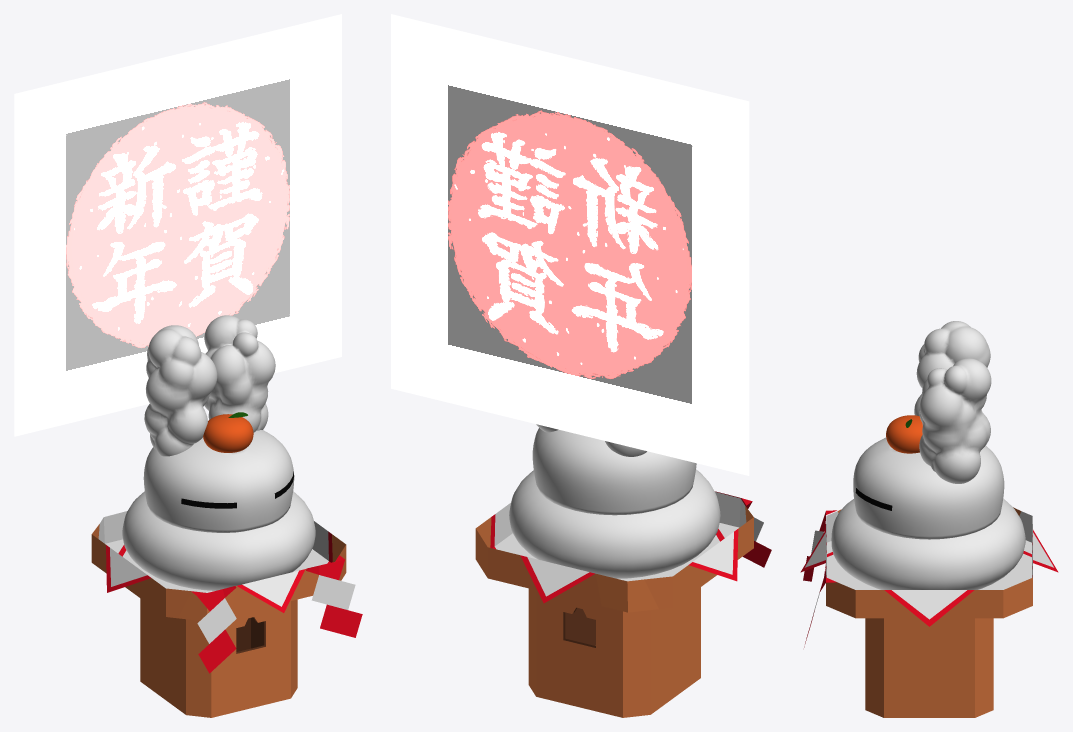
Rendered from asset.glb.
3 views of the same model, side by side, from view 1: azimuth 30°, elevation 25°; view 2: azimuth 150°, elevation 25°; view 3: azimuth 270°, elevation 25° (orthographic). The views are drawn at different scales.
Parts seen in each view (by area): view 1: Plane, mochi, dodai, Icosphere, kamihimo, mikan; view 2: Plane, dodai, mochi, kamihimo; view 3: dodai, mochi, Icosphere, mikan, kamihimo.
Boxes of the visible parts, x1,y1,x2,y2 form: Plane: (14,14,341,436); mochi: (122,430,315,590); dodai: (91,511,346,717); Icosphere: (144,315,275,456); kamihimo: (191,555,362,673); mikan: (203,412,253,452); Plane: (391,14,749,475); dodai: (475,492,753,717); mochi: (509,428,720,578); kamihimo: (715,491,771,567); dodai: (800,507,1058,717); mochi: (831,437,1025,589); Icosphere: (914,321,991,483); mikan: (886,415,922,453); kamihimo: (803,510,836,647).
Size of the model in its own units: 2.26 by 3.96 by 1.55.
